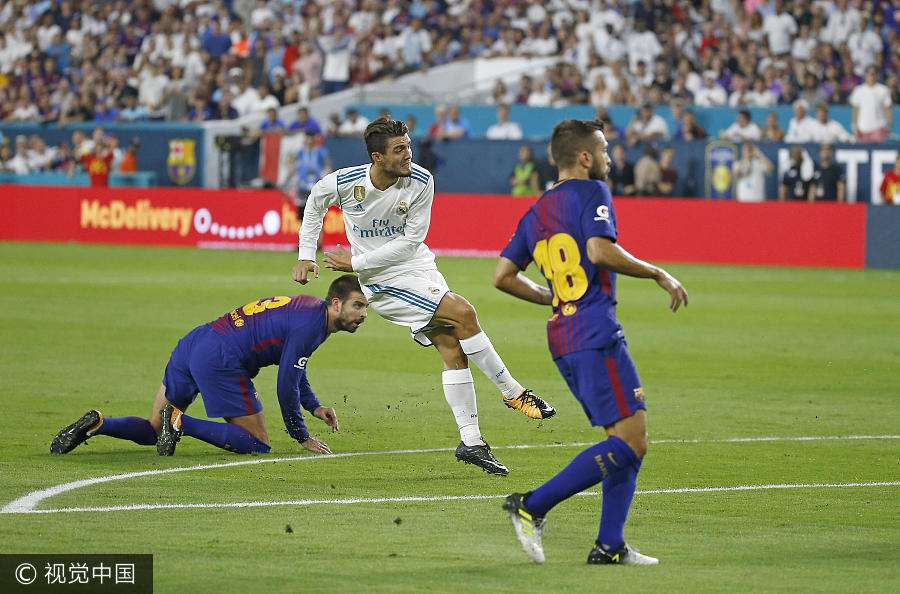10+: (1, 1, 899, 562)
down: (50, 263, 375, 463)
